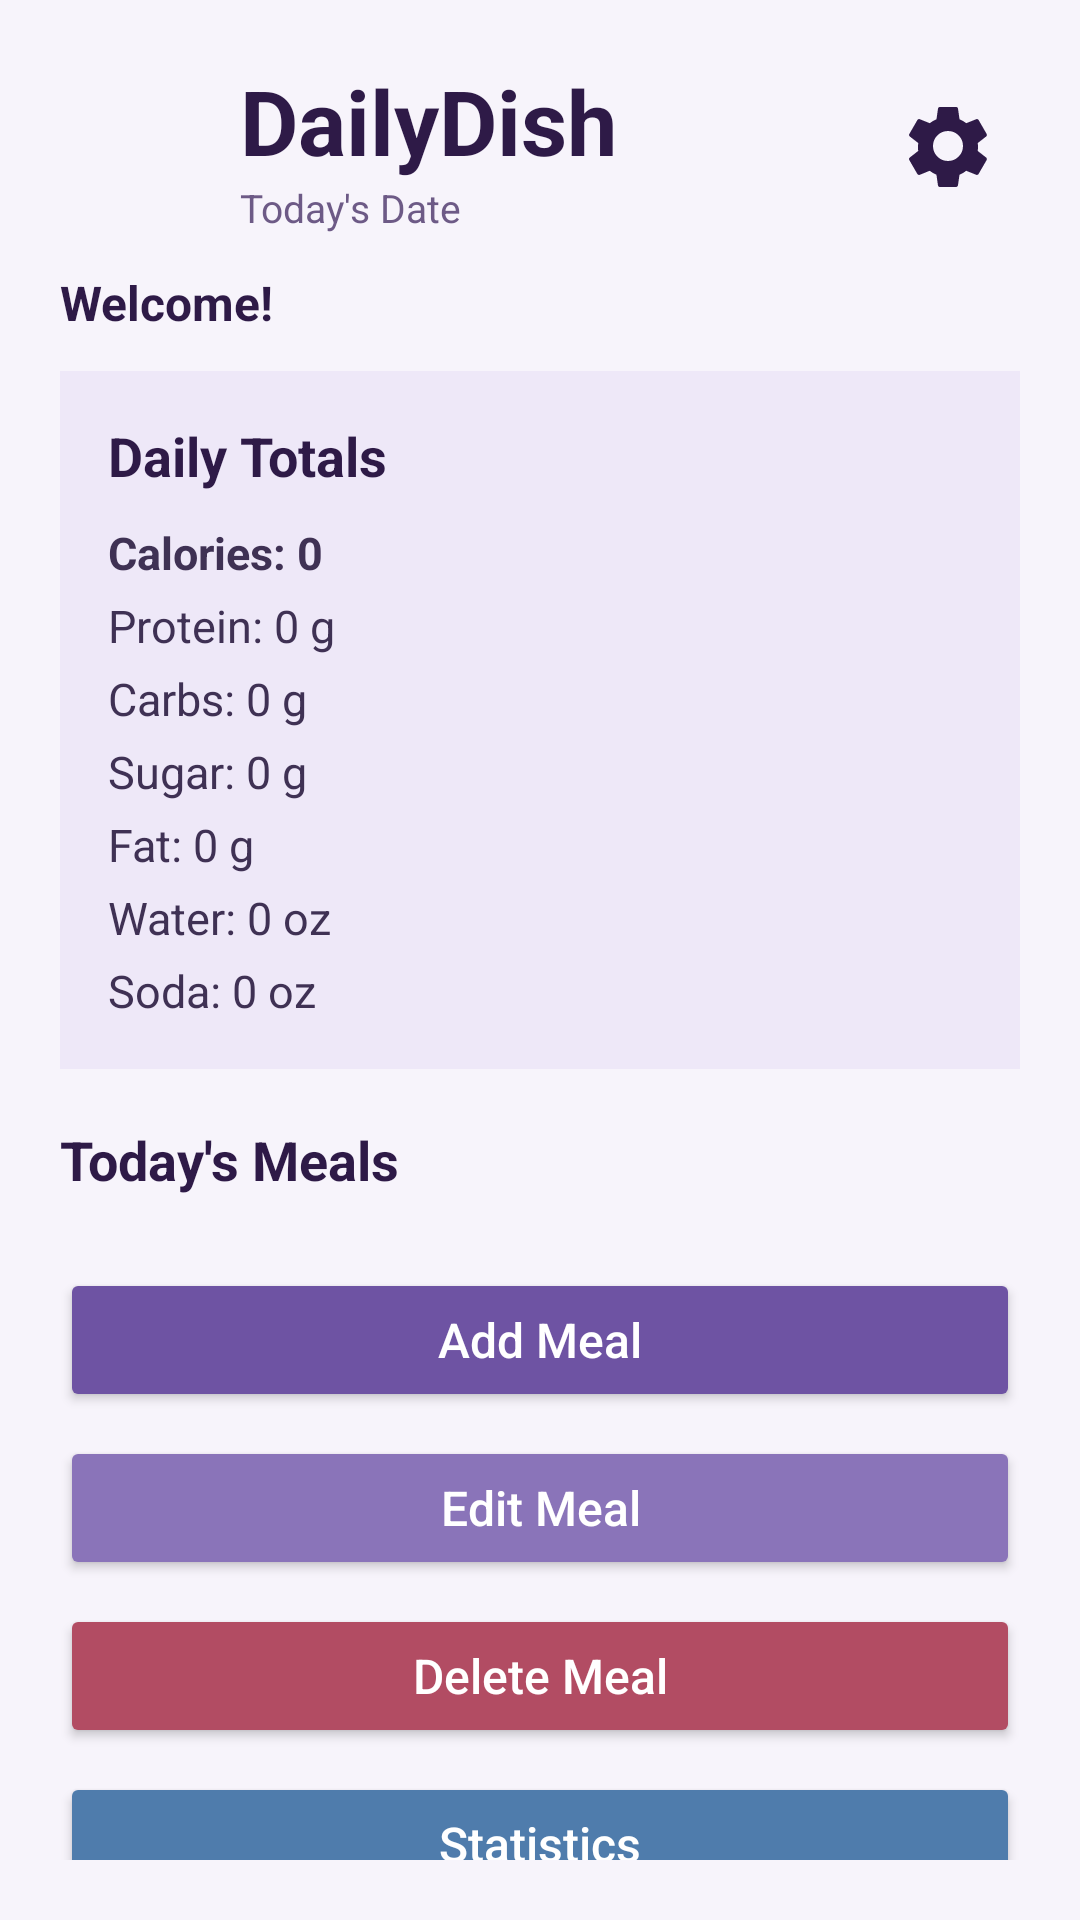

Locate icon controls on the screen. Image size 1080x1920, boxes as (x1,y1,x2,y2).
Settings: (909,107,987,187)
